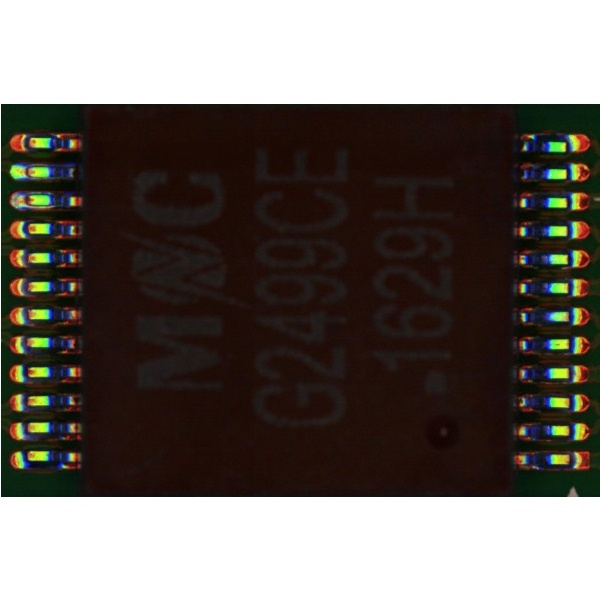Bad_qiaojiao: (26, 190, 57, 195), (27, 205, 55, 209)
